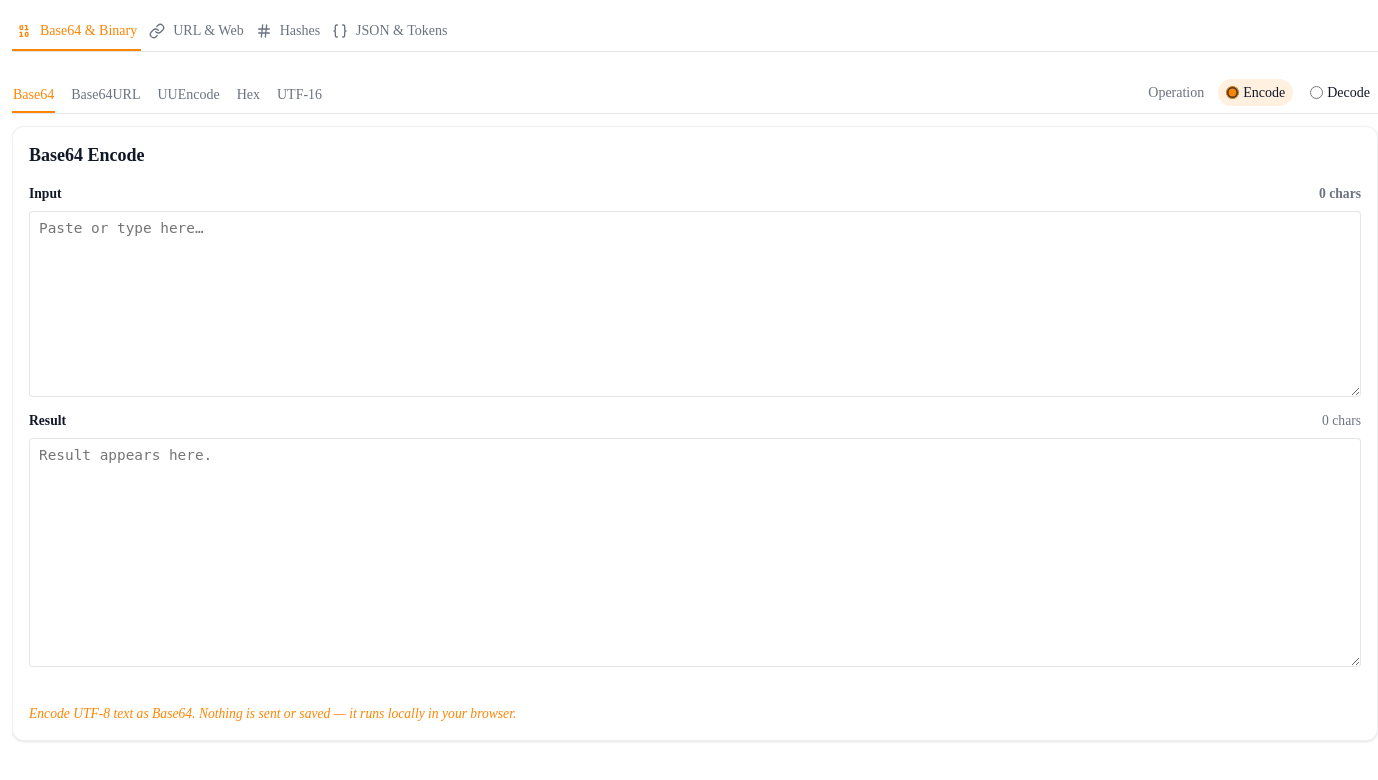
Test: clipboard and mail-test behavior › announces clipboard feedback (rejected: false)
In the text box named "Base64 Encode input": x=695, y=304 x1=29 y1=211 x2=1361 y2=397, type "Robin"
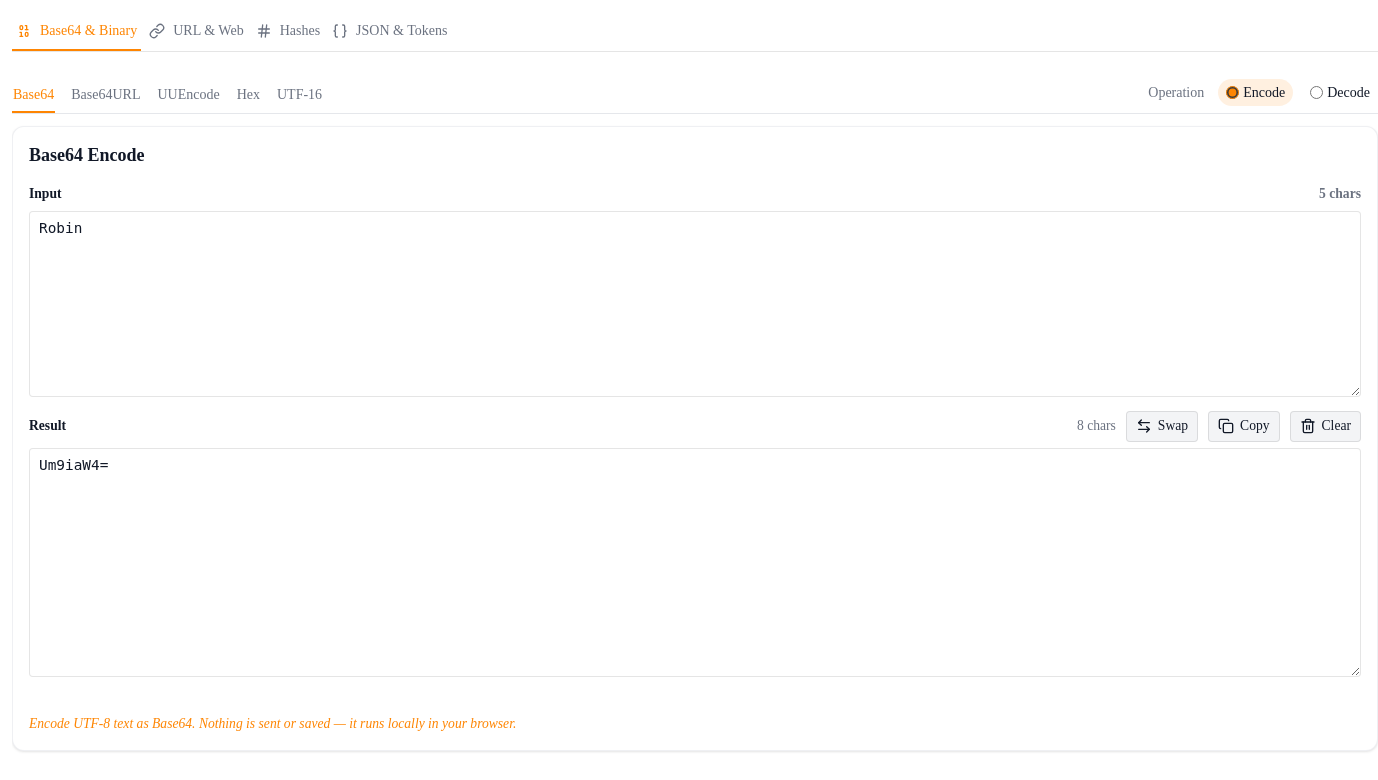
Click the button "Copy": x=1244, y=426 x1=1208 y1=411 x2=1280 y2=442
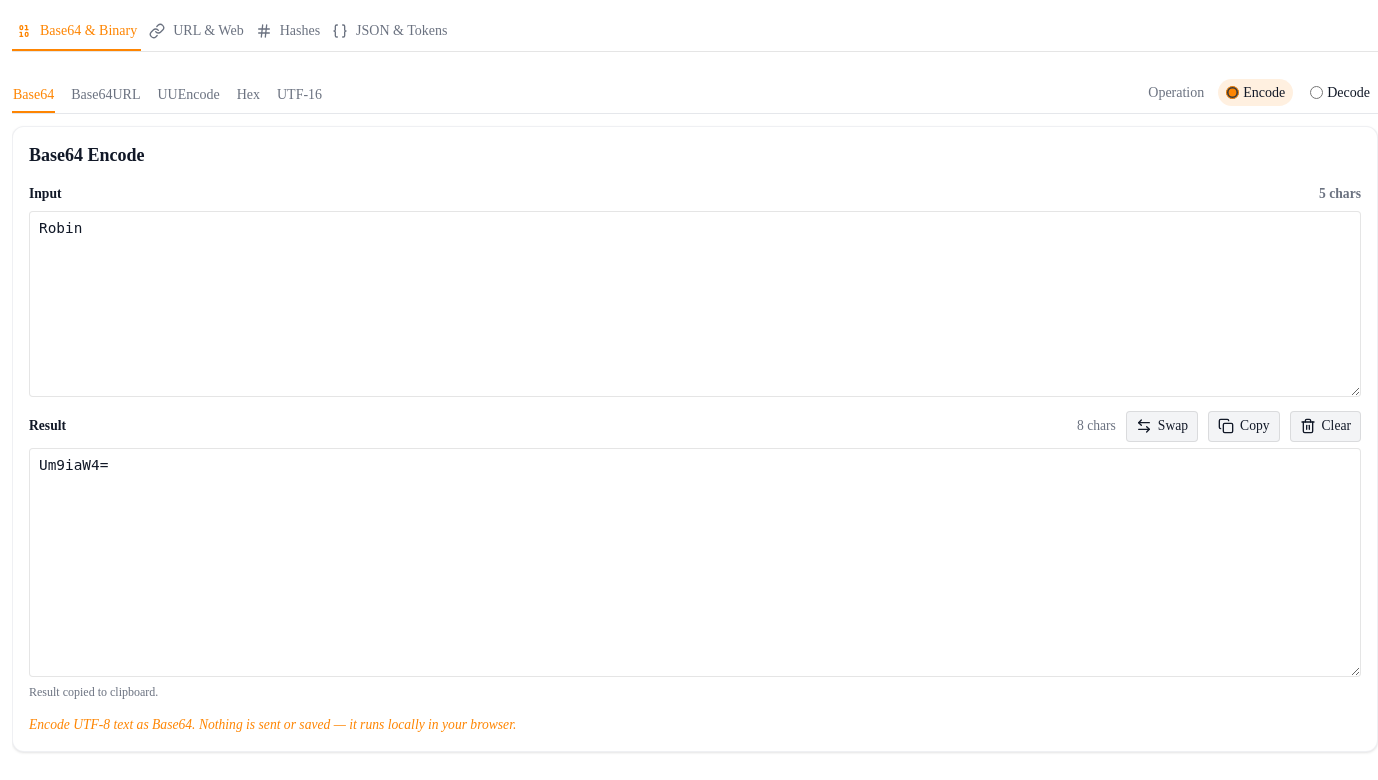
Expected: the text "Result copied to clipboard." is shown, x1=29 y1=685 x2=158 y2=699
